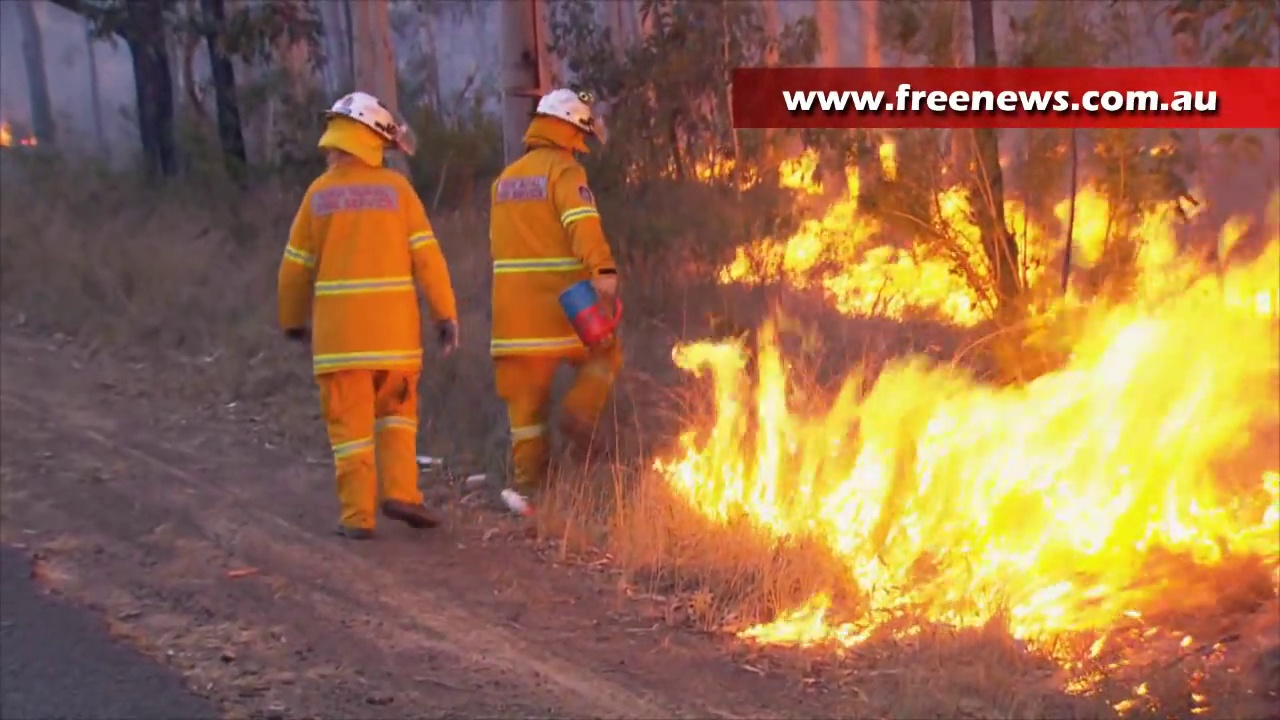fire: (677, 327, 1280, 641), (1011, 190, 1280, 326), (722, 192, 992, 321), (778, 153, 825, 195)
